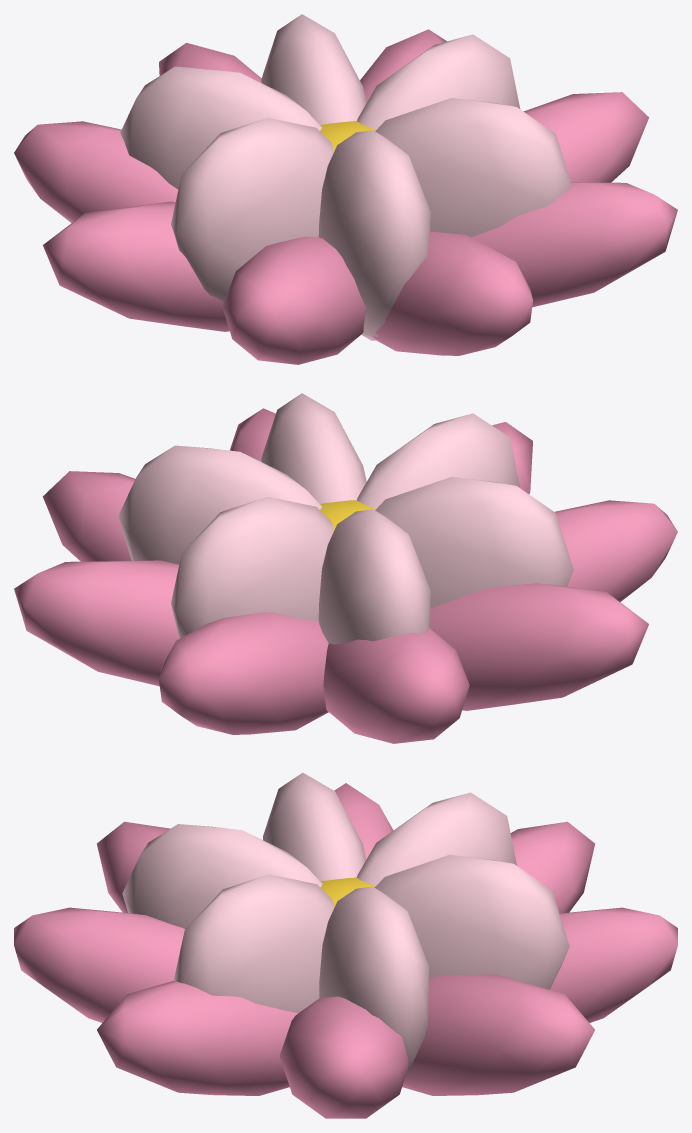
Rendered from lotus.glb.
The picture shows the model from 3 angles, top to bottom: view 1: azimuth 30°, elevation 25°; view 2: azimuth 150°, elevation 25°; view 3: azimuth 270°, elevation 25°; orthographic projection.
Parts seen in each view (by area): view 1: lotus; view 2: lotus; view 3: lotus.
Boxes of the visible parts, <box> form: lotus: <box>14,14,677,364</box>; lotus: <box>14,393,677,743</box>; lotus: <box>14,772,677,1118</box>.
Bounding box in the file's own units: 1 × 0.3581 × 1.
